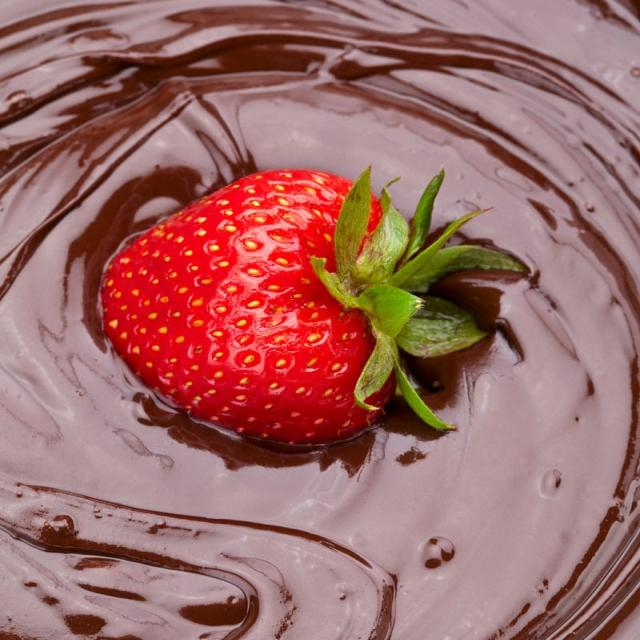strawberry: (83, 157, 521, 462)
